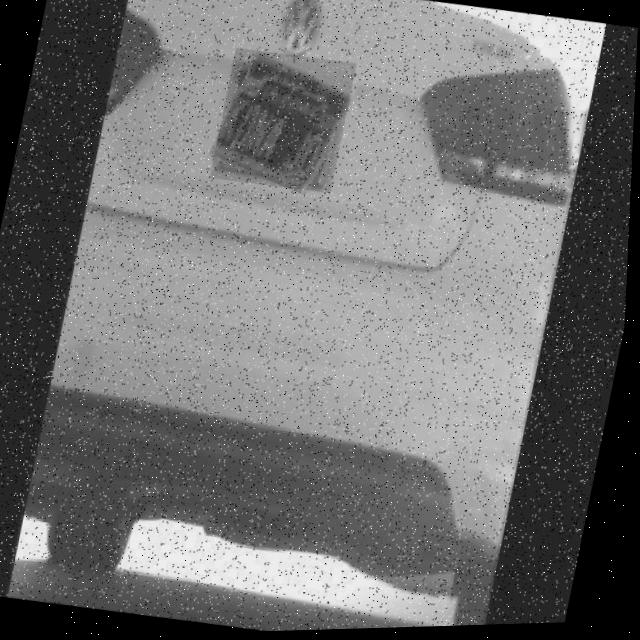LicensePlate: (211, 47, 358, 198)
